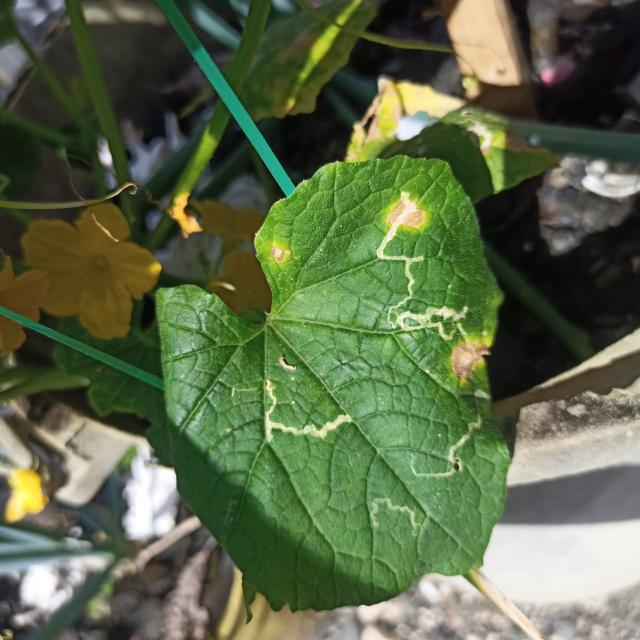disease_cucumber: (447, 334, 489, 381), (386, 196, 427, 228), (270, 242, 290, 268)
